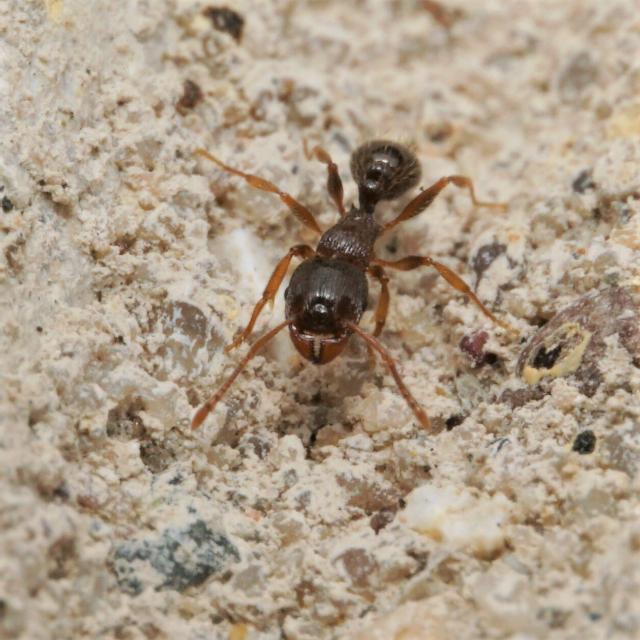Tetramorium: (208, 93, 454, 393)
